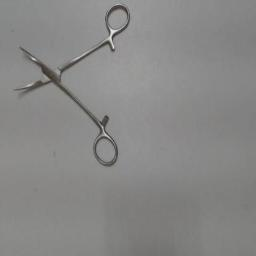Crile Artery Forceps: (10, 0, 130, 172)
